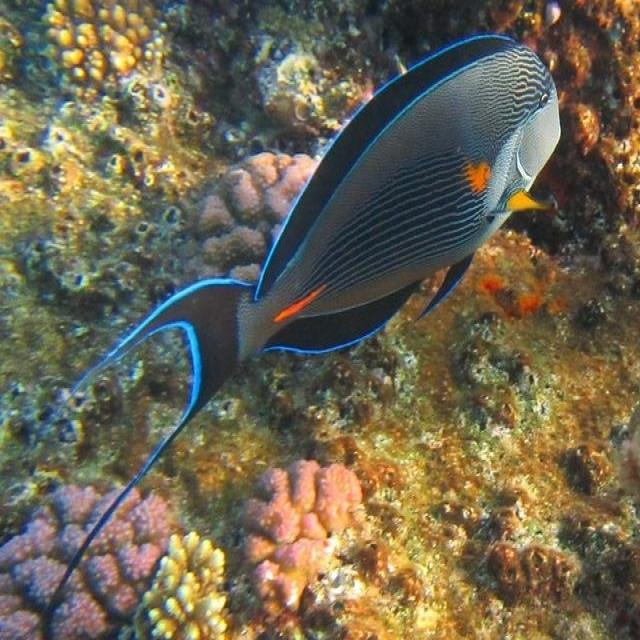fish: (23, 35, 561, 639)
reefs: (0, 484, 172, 637), (242, 458, 369, 620), (184, 152, 319, 286), (46, 0, 159, 105), (143, 532, 232, 638)
